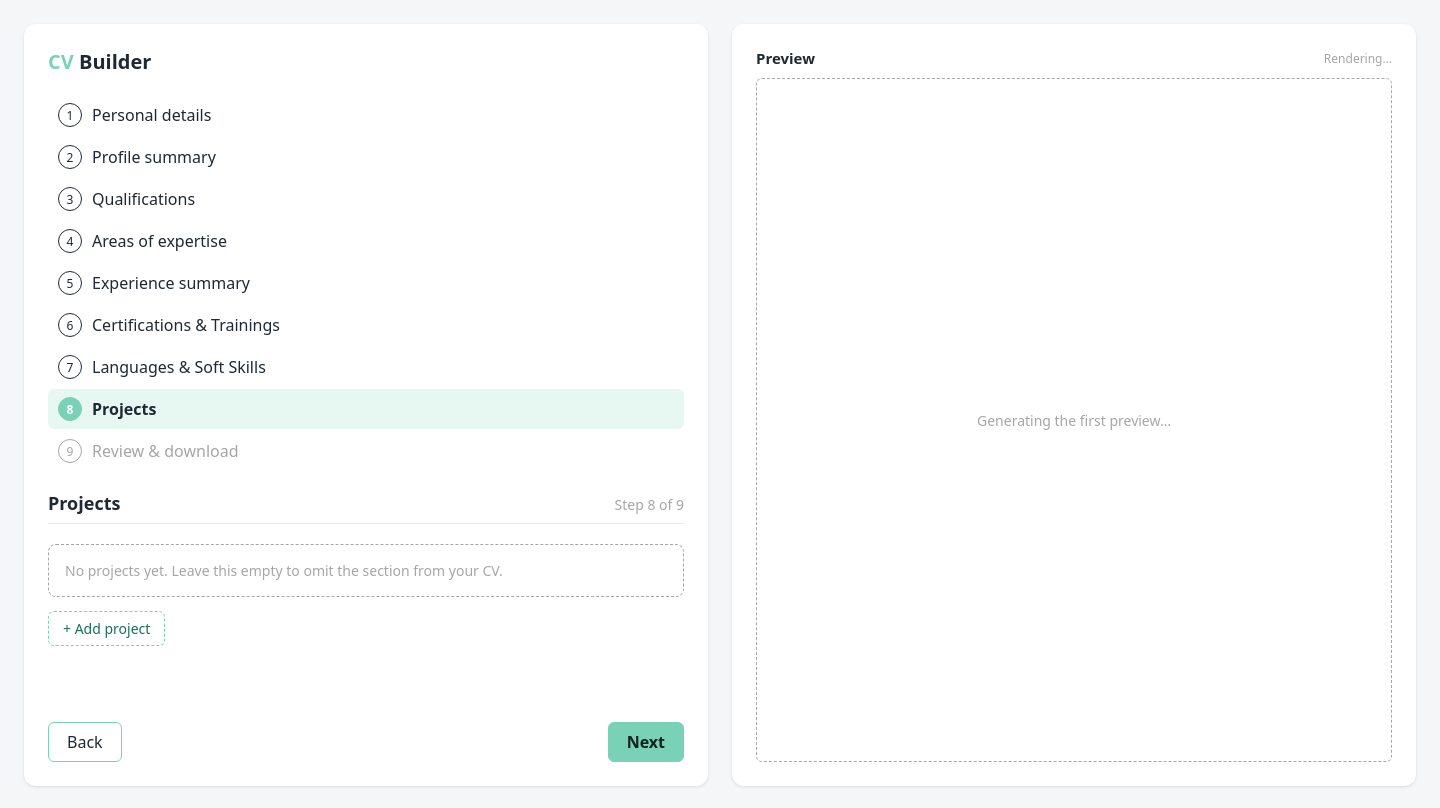
validation gating › a step with no required fields advances freely
Click the button "Next": [646, 742] box x1=608 y1=722 x2=684 y2=762
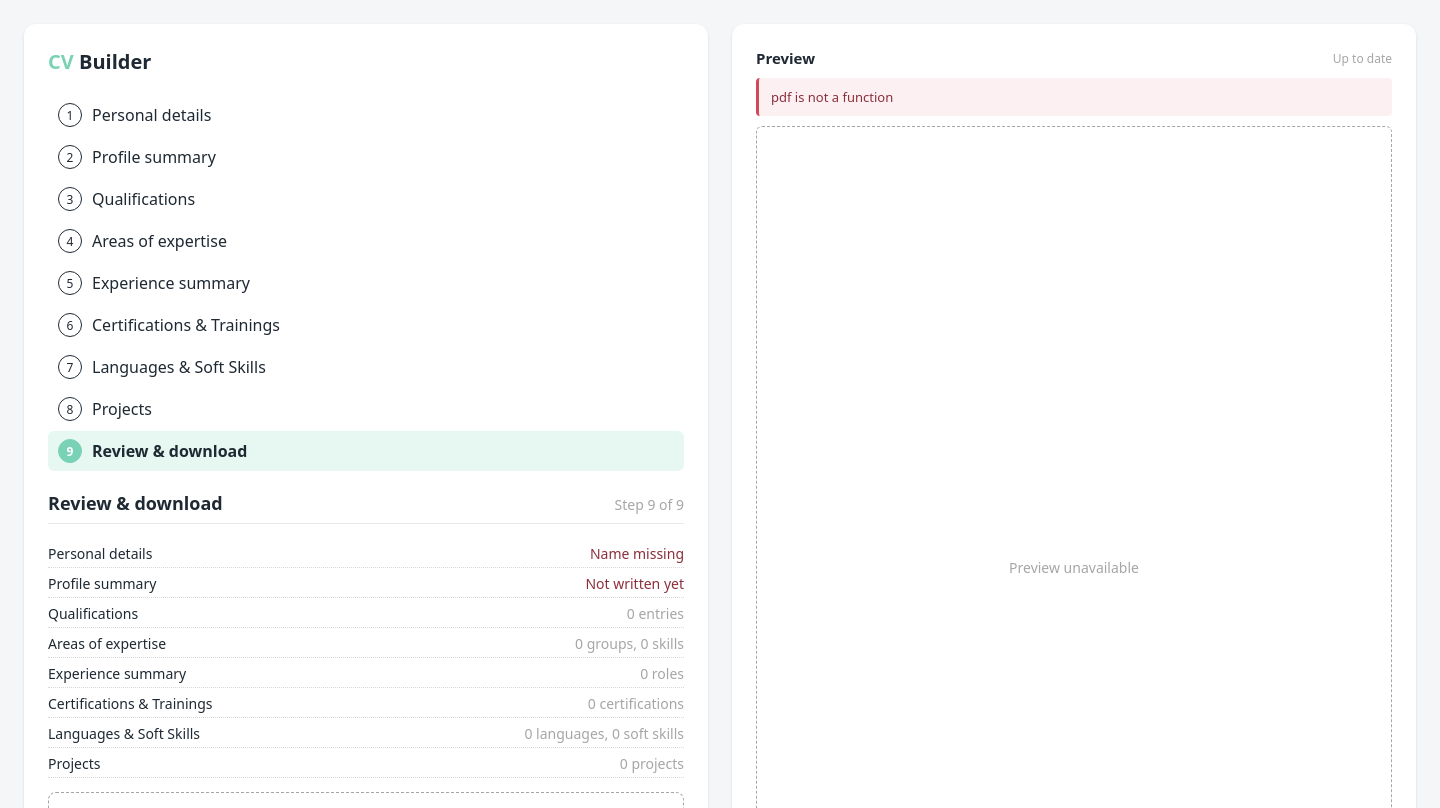
Result: the heading "Review & download" is shown at x1=48 y1=491 x2=223 y2=515
